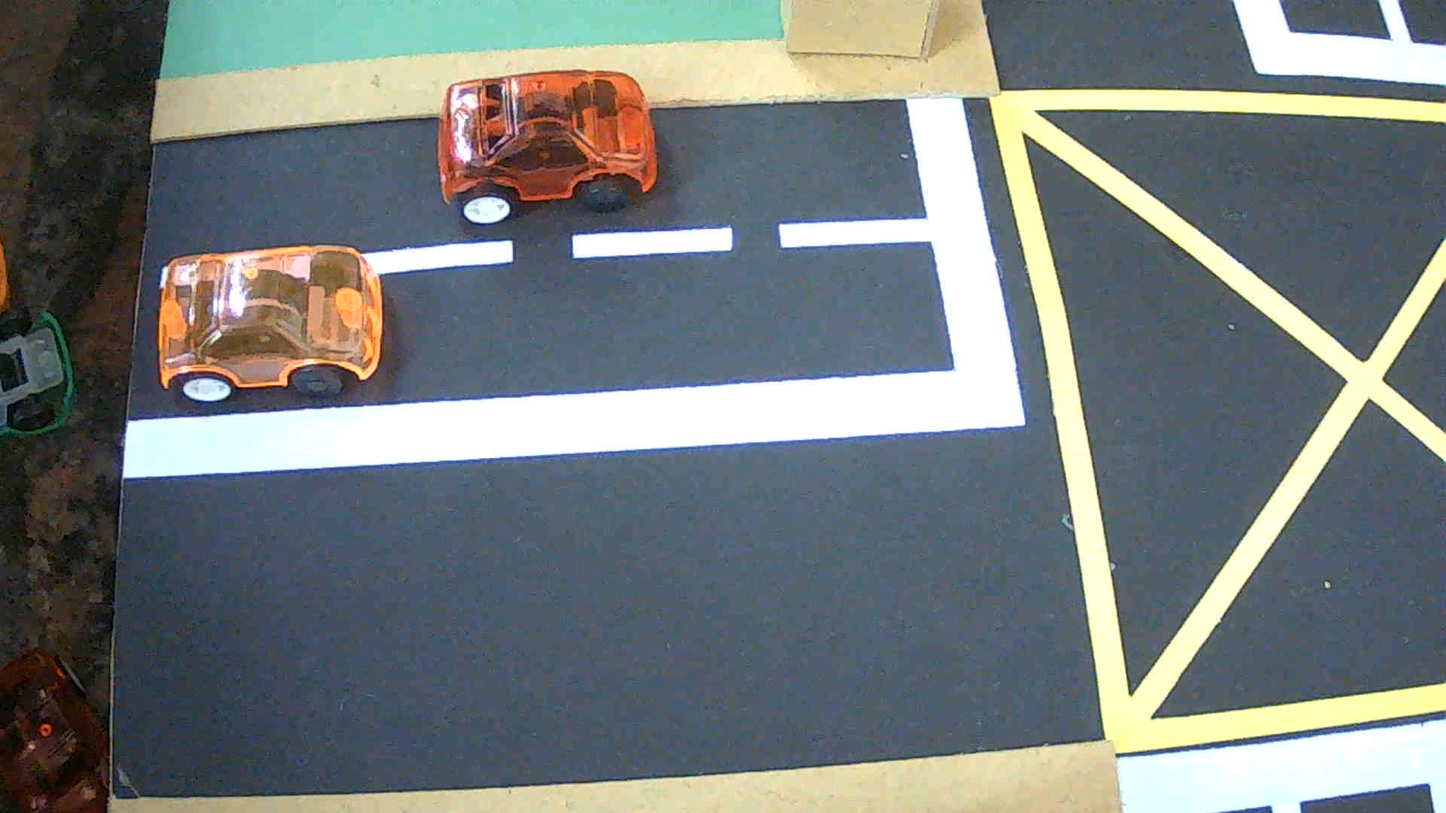Mobil merah: (437, 70, 657, 224)
Mobil orange: (157, 245, 383, 402)
